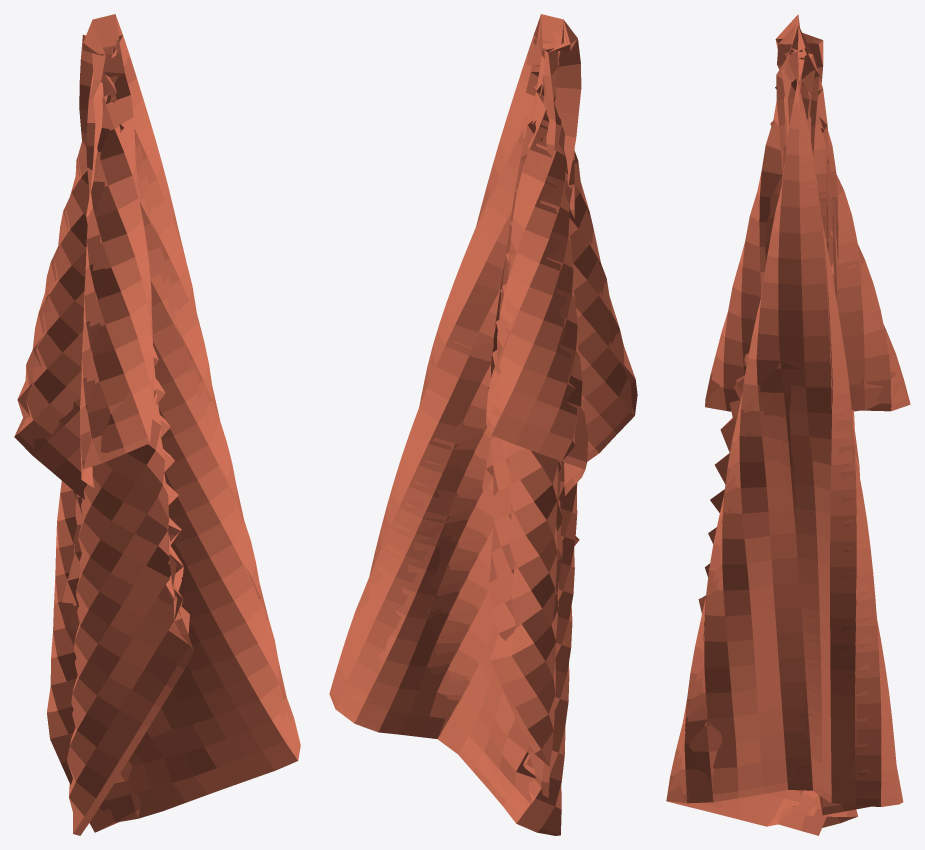
The model's file is Towel.fbx.
The picture shows the model from 3 angles, left to right: view 1: azimuth 30°, elevation 25°; view 2: azimuth 150°, elevation 25°; view 3: azimuth 270°, elevation 25°; orthographic projection.
Parts seen in each view (by area): view 1: Towel; view 2: Towel; view 3: Towel.
Boxes of the visible parts, x1,y1,x2,y2 form: Towel: (14, 14, 300, 835); Towel: (329, 14, 637, 835); Towel: (666, 14, 910, 835).
Bounding box in the file's own units: 0.1378 × 0.5075 × 0.1594.
